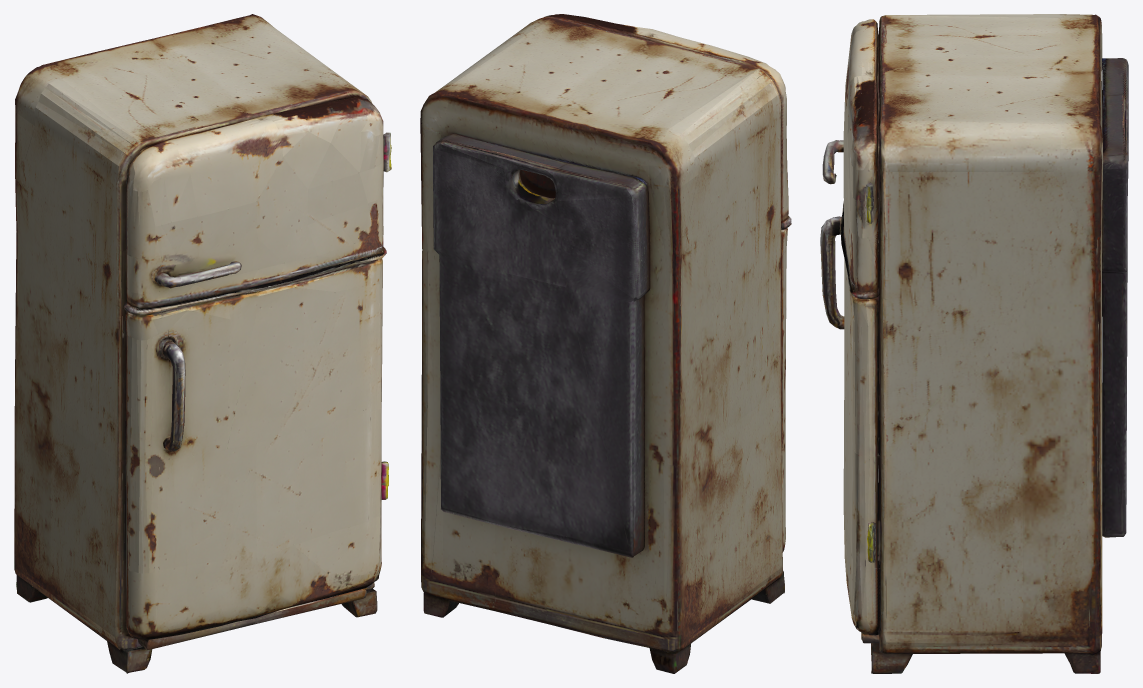
File: fridge.glb
3 views of the same model, side by side, from view 1: azimuth 30°, elevation 25°; view 2: azimuth 150°, elevation 25°; view 3: azimuth 270°, elevation 25° (orthographic). The views are drawn at different scales.
Parts seen in each view (by area): view 1: mesh_node; view 2: mesh_node; view 3: mesh_node.
Boxes of the visible parts, x1,y1,x2,y2 form: mesh_node: (14, 14, 391, 673); mesh_node: (420, 14, 791, 673); mesh_node: (820, 14, 1128, 673).
Bounding box in the file's own units: 0.5371 × 1 × 0.5156.
1 material, 1 textured.
